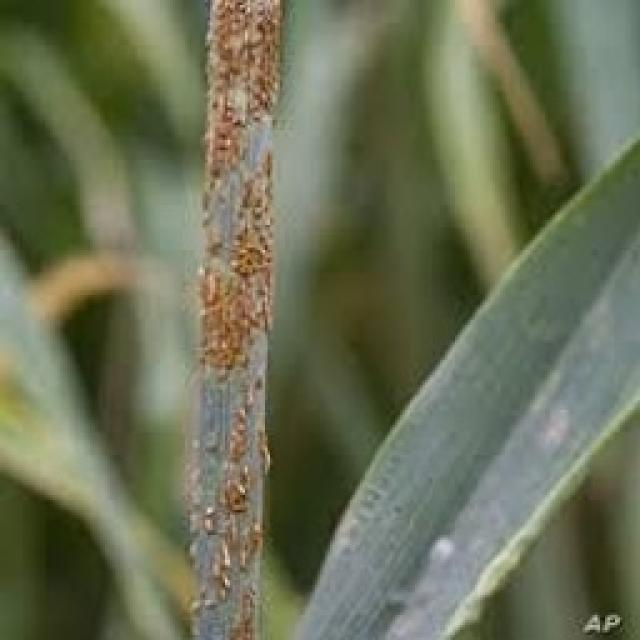Healthy Wheat: (178, 0, 288, 638)
